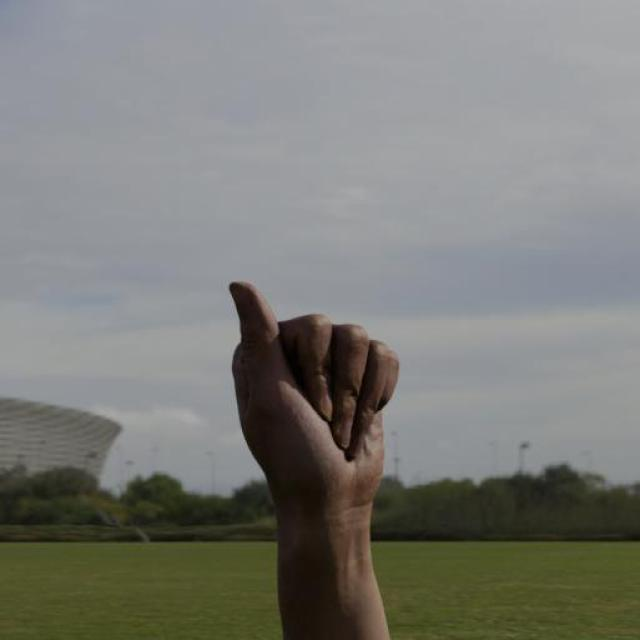A: (225, 279, 406, 531)
